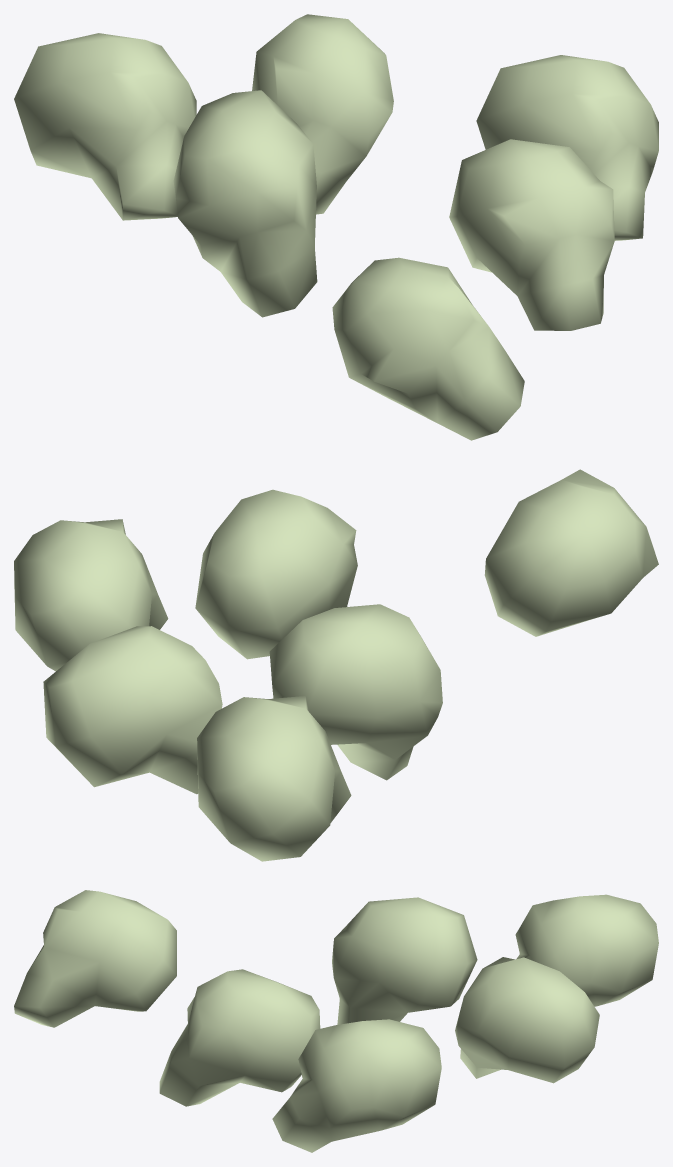
3 renders of one model, top to bottom at view 1: azimuth 30°, elevation 25°; view 2: azimuth 150°, elevation 25°; view 3: azimuth 270°, elevation 25°, orthographic. The views are drawn at different scales.
Parts seen in each view (by area): view 1: Object17; view 2: Object17; view 3: Object17.
Boxes of the visible parts, x1=… form: Object17: x1=14, y1=14, x2=658, y2=440; Object17: x1=14, y1=469, x2=658, y2=861; Object17: x1=14, y1=890, x2=658, y2=1152.
Bounding box in the file's own units: 79.44 × 28.07 × 119.
